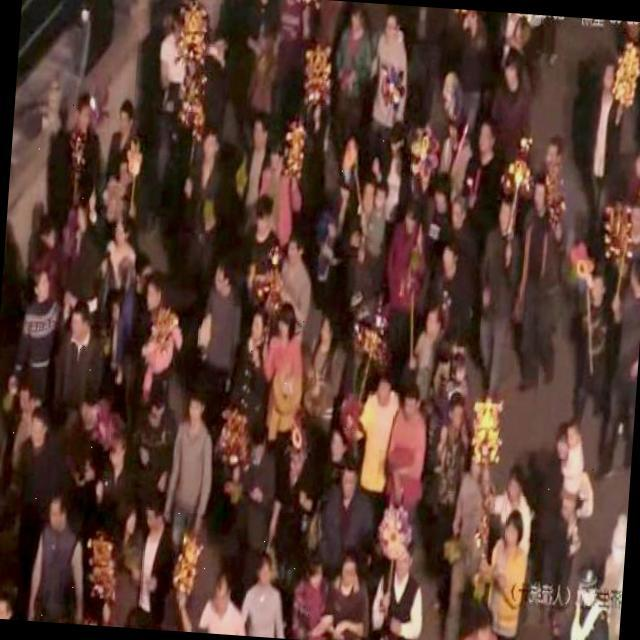person: (140, 0, 220, 250), (512, 171, 569, 397), (466, 185, 524, 402), (432, 442, 495, 640), (587, 250, 640, 485), (530, 411, 584, 640), (106, 244, 174, 409), (162, 375, 220, 566), (577, 58, 628, 272), (417, 190, 475, 369), (171, 126, 229, 300), (563, 243, 616, 433), (418, 388, 476, 551), (219, 108, 272, 278), (24, 488, 89, 624), (48, 93, 102, 256), (94, 90, 146, 258), (116, 378, 180, 510), (8, 398, 58, 566), (377, 199, 426, 366), (192, 254, 240, 416), (253, 298, 309, 436), (128, 488, 181, 630), (262, 439, 320, 568), (336, 170, 391, 306), (363, 8, 411, 158), (246, 130, 305, 250), (365, 527, 427, 640), (8, 260, 58, 400), (230, 432, 280, 571), (315, 458, 380, 562), (328, 0, 372, 150), (50, 302, 106, 419), (265, 0, 312, 139), (382, 388, 429, 523), (413, 172, 455, 322), (480, 505, 530, 630), (235, 0, 283, 129), (230, 310, 266, 479), (298, 311, 344, 438), (438, 194, 479, 336), (355, 374, 399, 504), (458, 118, 504, 235), (63, 0, 124, 86), (457, 121, 504, 231), (486, 43, 534, 148), (72, 519, 116, 626), (323, 540, 369, 640), (563, 560, 617, 640), (485, 460, 534, 546), (240, 558, 292, 638), (287, 557, 336, 640), (434, 101, 469, 198), (197, 570, 246, 636), (449, 597, 508, 640)
